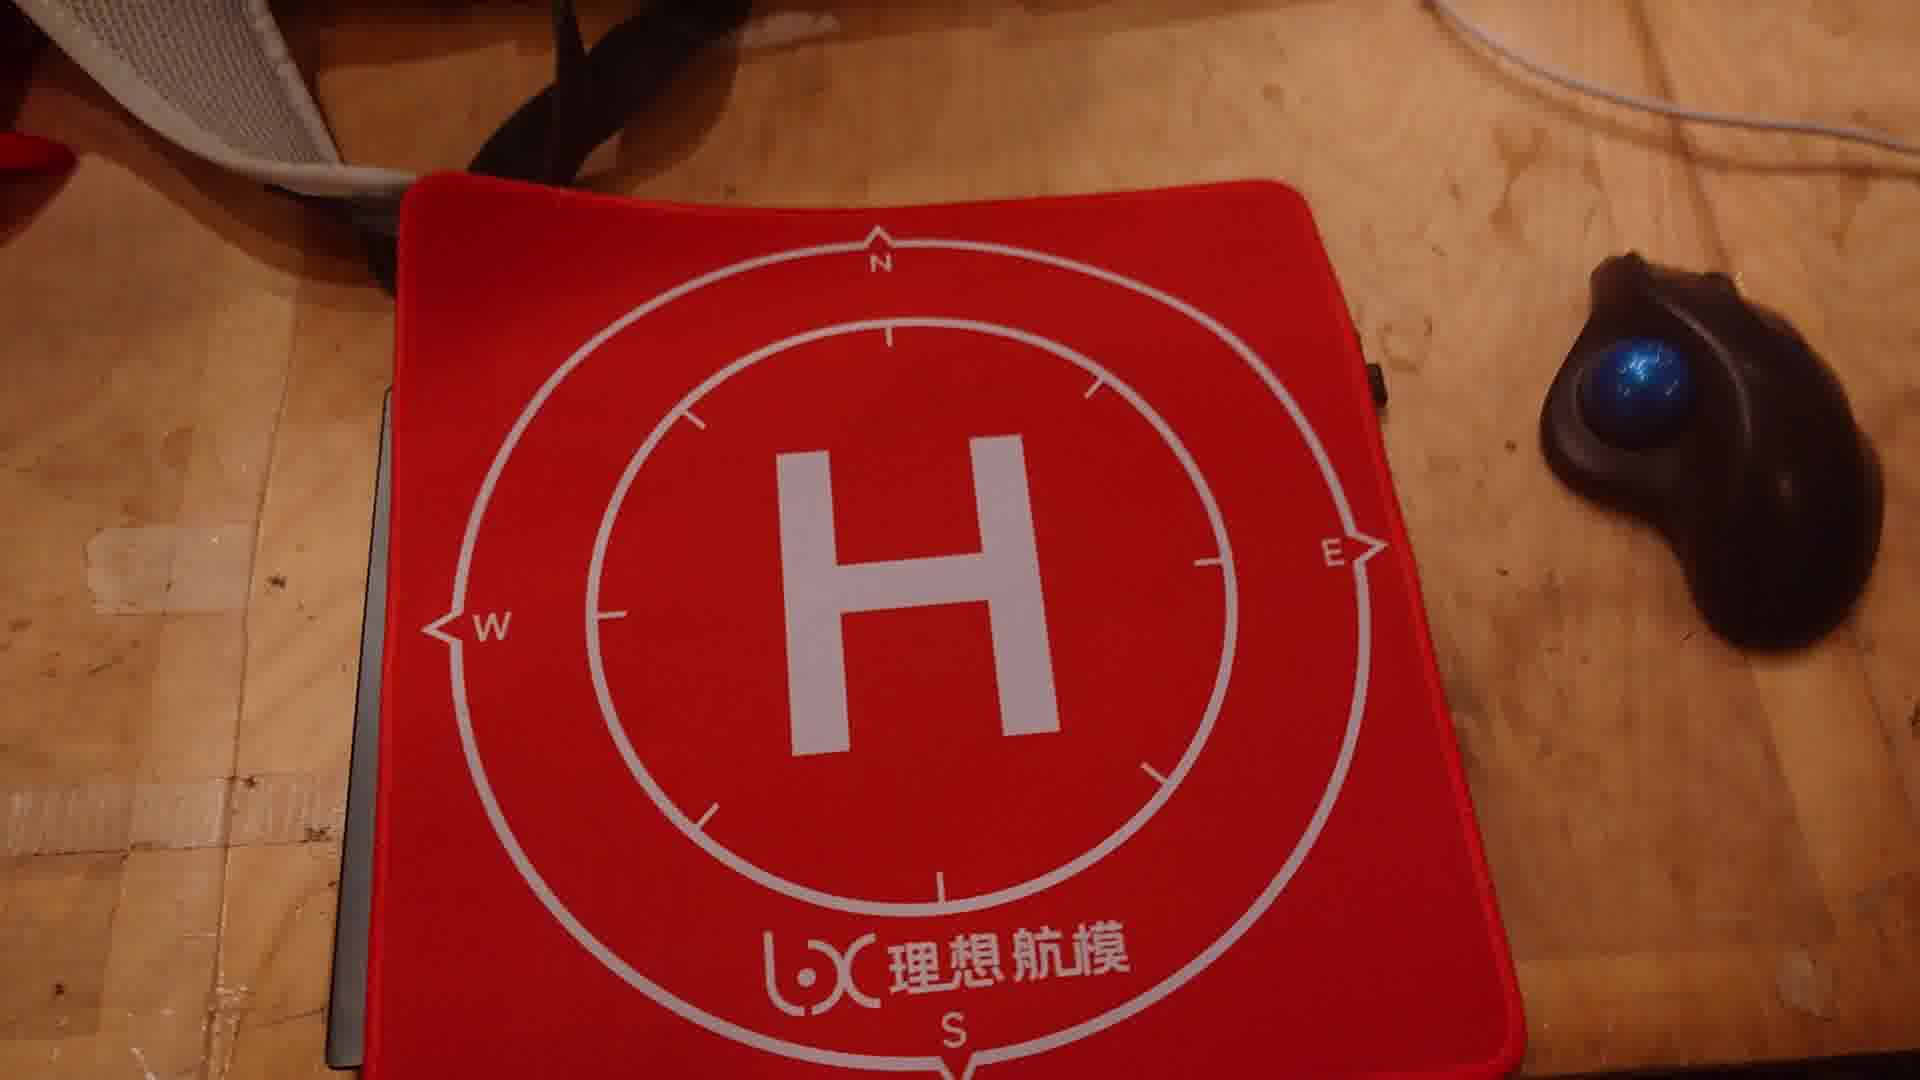H: (775, 435, 1064, 758)
